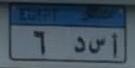6: (31, 29, 48, 55)
alif: (110, 30, 119, 58)
daal: (73, 35, 85, 54)
seen: (87, 35, 106, 56)
